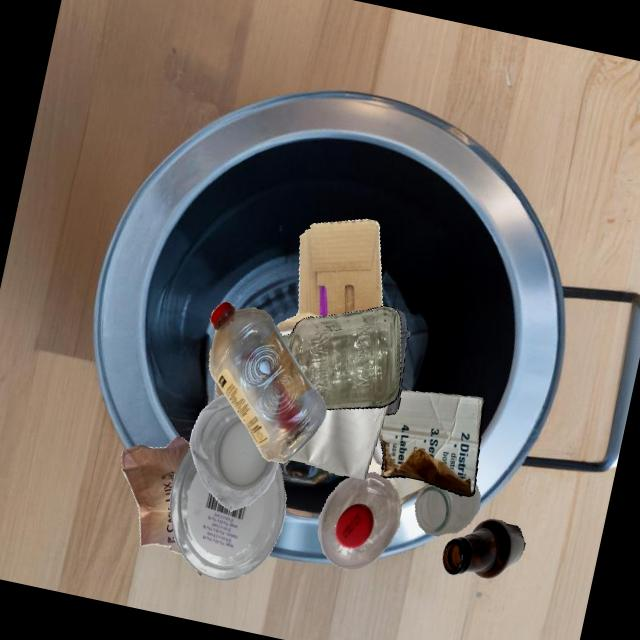cardboard: (276, 219, 382, 336), (379, 390, 484, 496), (215, 380, 224, 397)
glass: (281, 305, 400, 410), (442, 518, 525, 578), (414, 483, 480, 536)
paper: (121, 435, 190, 559), (288, 404, 388, 479), (366, 433, 429, 505), (286, 459, 290, 464)
plastic: (208, 301, 326, 463), (169, 447, 286, 580), (189, 394, 278, 511), (317, 472, 401, 569), (385, 307, 410, 415)
